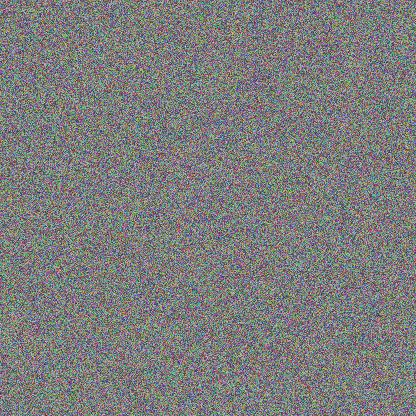empty: (51, 75, 166, 191)
occupied: (232, 151, 347, 228)
